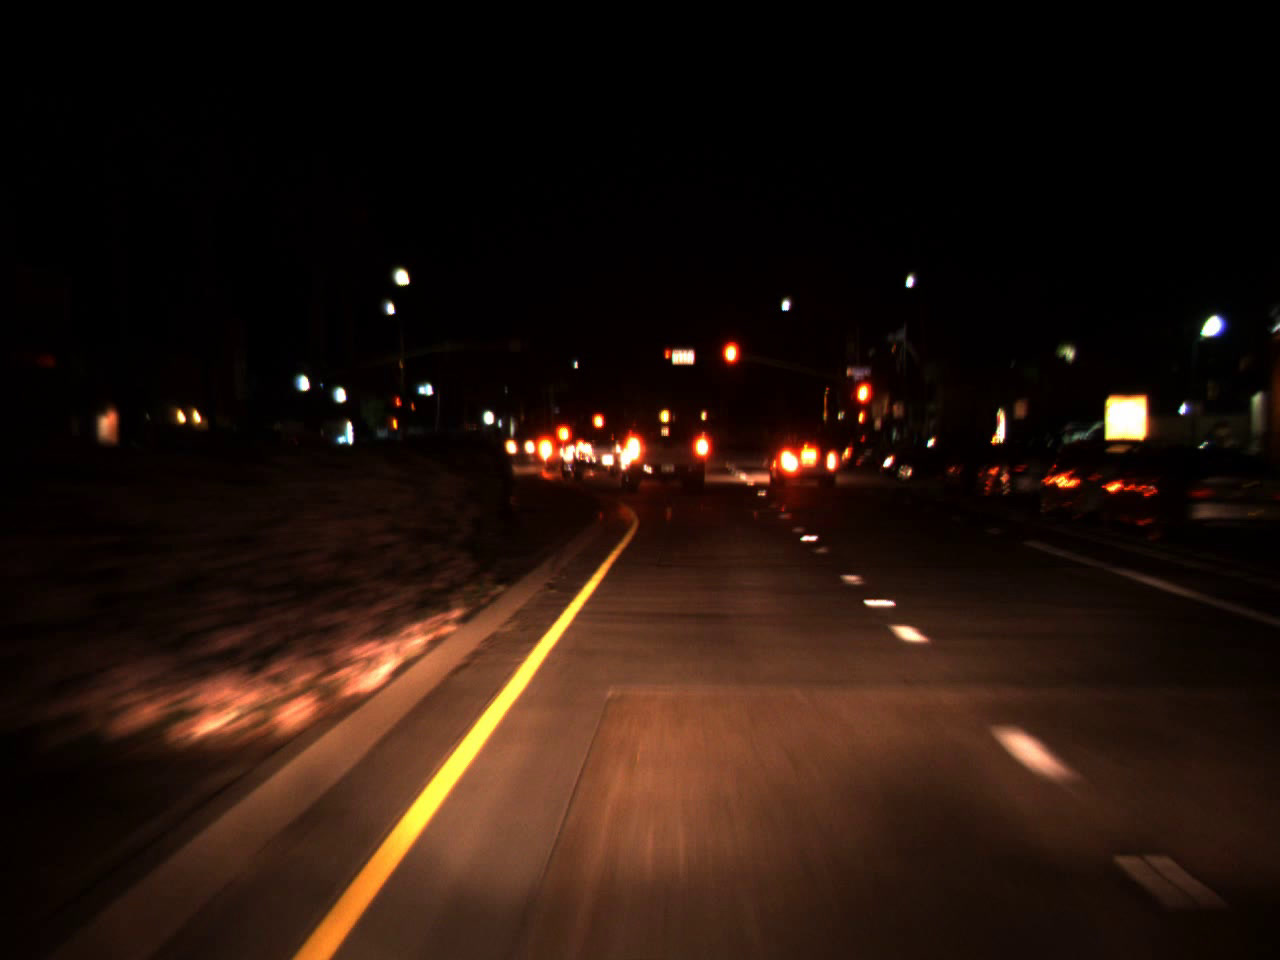stop: (719, 338, 741, 392), (853, 379, 874, 430), (394, 396, 401, 417), (665, 348, 671, 369)
